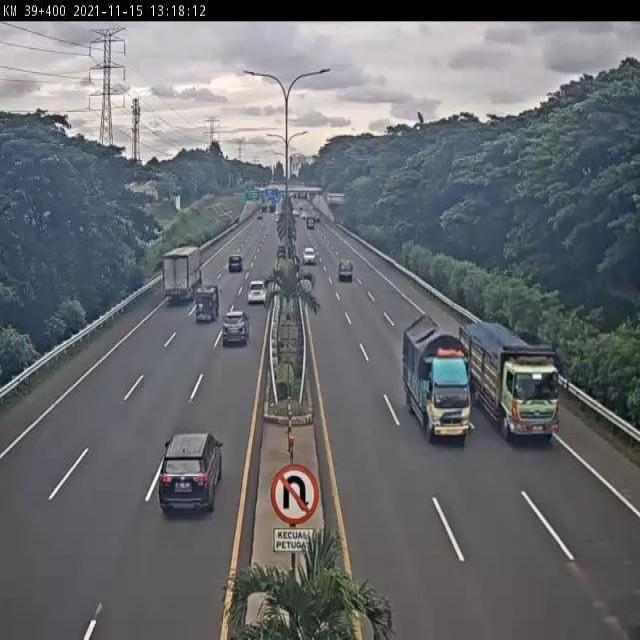car: (158, 428, 225, 517), (222, 308, 251, 347), (247, 280, 270, 307)
truck-l-: (461, 320, 561, 441), (164, 244, 205, 304)
truck-m-: (402, 313, 473, 443), (192, 282, 222, 322)
